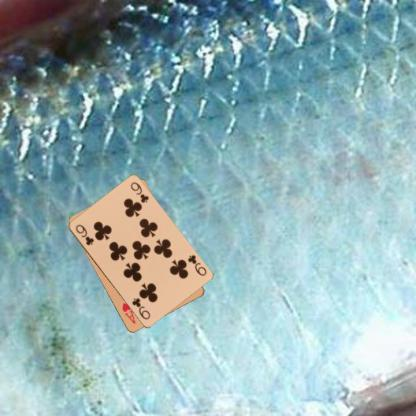9c: (73, 222, 95, 247), (185, 252, 207, 277)
